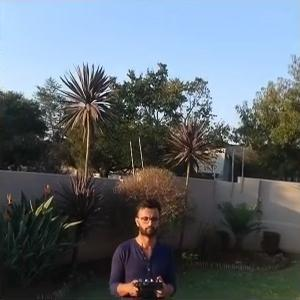follow: (105, 194, 179, 299)
